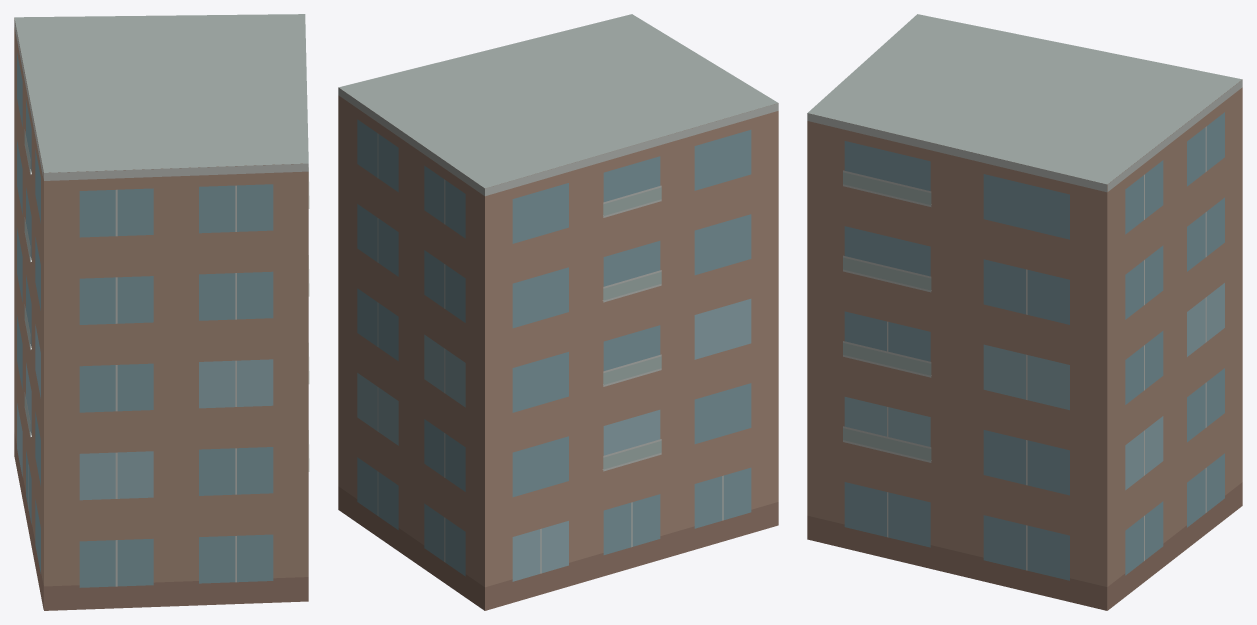
The model's file is survey-upis-32533657.glb.
3 views of the same model, side by side, from view 1: azimuth 30°, elevation 25°; view 2: azimuth 150°, elevation 25°; view 3: azimuth 270°, elevation 25° (orthographic). The views are drawn at different scales.
Parts seen in each view (by area): view 1: survey-upis-32533657.tmp; view 2: survey-upis-32533657.tmp; view 3: survey-upis-32533657.tmp.
Boxes of the visible parts, box(x1,y1,x2,y2) form: survey-upis-32533657.tmp: box(14, 14, 309, 610); survey-upis-32533657.tmp: box(338, 14, 778, 610); survey-upis-32533657.tmp: box(807, 14, 1242, 610).
Bounding box in the file's own units: 11.33 × 13.2 × 12.22.
